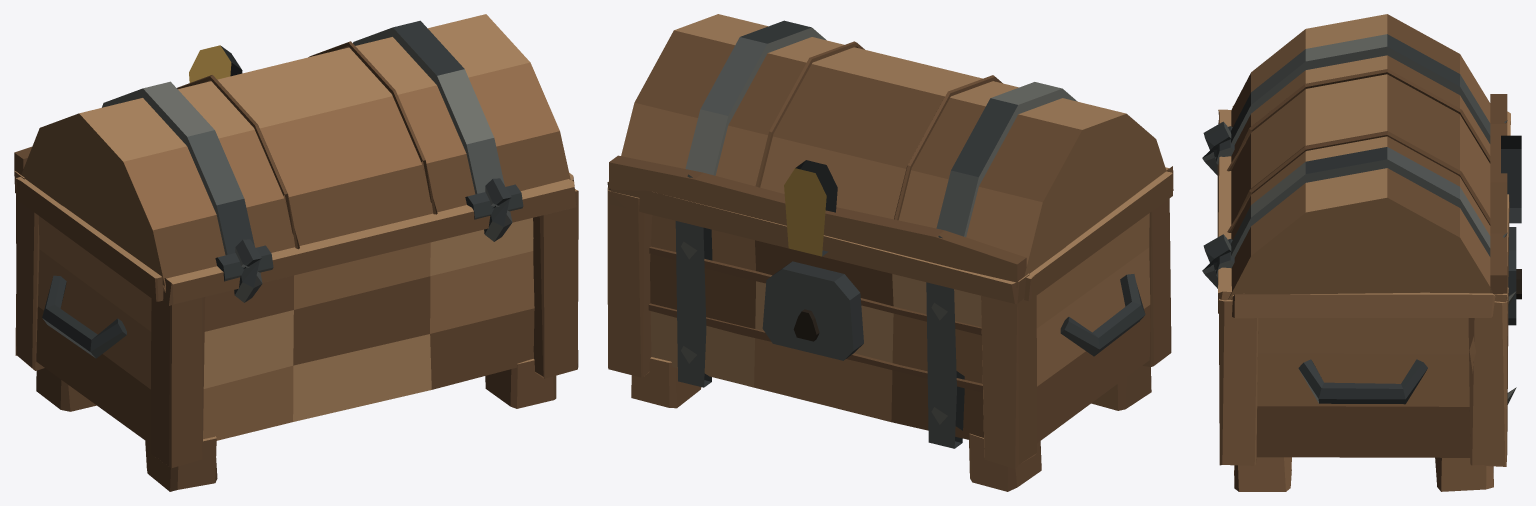
Rendered from cellar_reserve_chest_v1.glb.
3 renders of one model, left to right at view 1: azimuth 30°, elevation 25°; view 2: azimuth 150°, elevation 25°; view 3: azimuth 270°, elevation 25°, orthographic. The views are drawn at different scales.
Parts seen in each view (by area): view 1: Chest_Body_RuntimeMesh, Chest_Lid_RuntimeMesh; view 2: Chest_Body_RuntimeMesh, Chest_Lid_RuntimeMesh; view 3: Chest_Lid_RuntimeMesh, Chest_Body_RuntimeMesh.
Part boxes in pixels (box(x1,y1,x2,y2)): Chest_Body_RuntimeMesh: box(14, 171, 578, 491); Chest_Lid_RuntimeMesh: box(14, 14, 570, 292); Chest_Body_RuntimeMesh: box(607, 166, 1173, 491); Chest_Lid_RuntimeMesh: box(609, 14, 1166, 287); Chest_Lid_RuntimeMesh: box(1216, 14, 1521, 299); Chest_Body_RuntimeMesh: box(1202, 106, 1521, 491).
Size of the model in its own units: 2.24 by 1.55 by 1.46.
